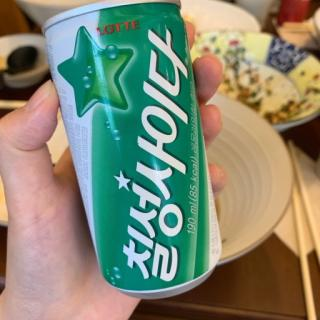cocacola: (41, 0, 224, 300)
